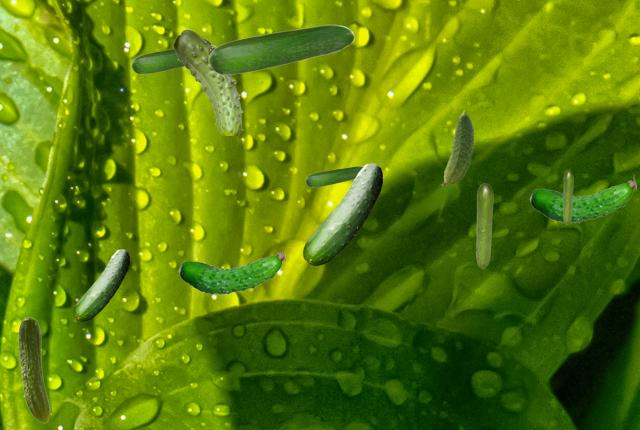cucumber: (303, 163, 381, 264), (208, 24, 353, 74), (173, 29, 242, 134), (529, 175, 635, 222), (178, 247, 284, 294), (73, 249, 128, 320), (18, 317, 49, 422), (439, 110, 473, 185), (131, 44, 215, 73), (476, 183, 492, 267), (305, 166, 362, 186), (563, 170, 572, 223)
